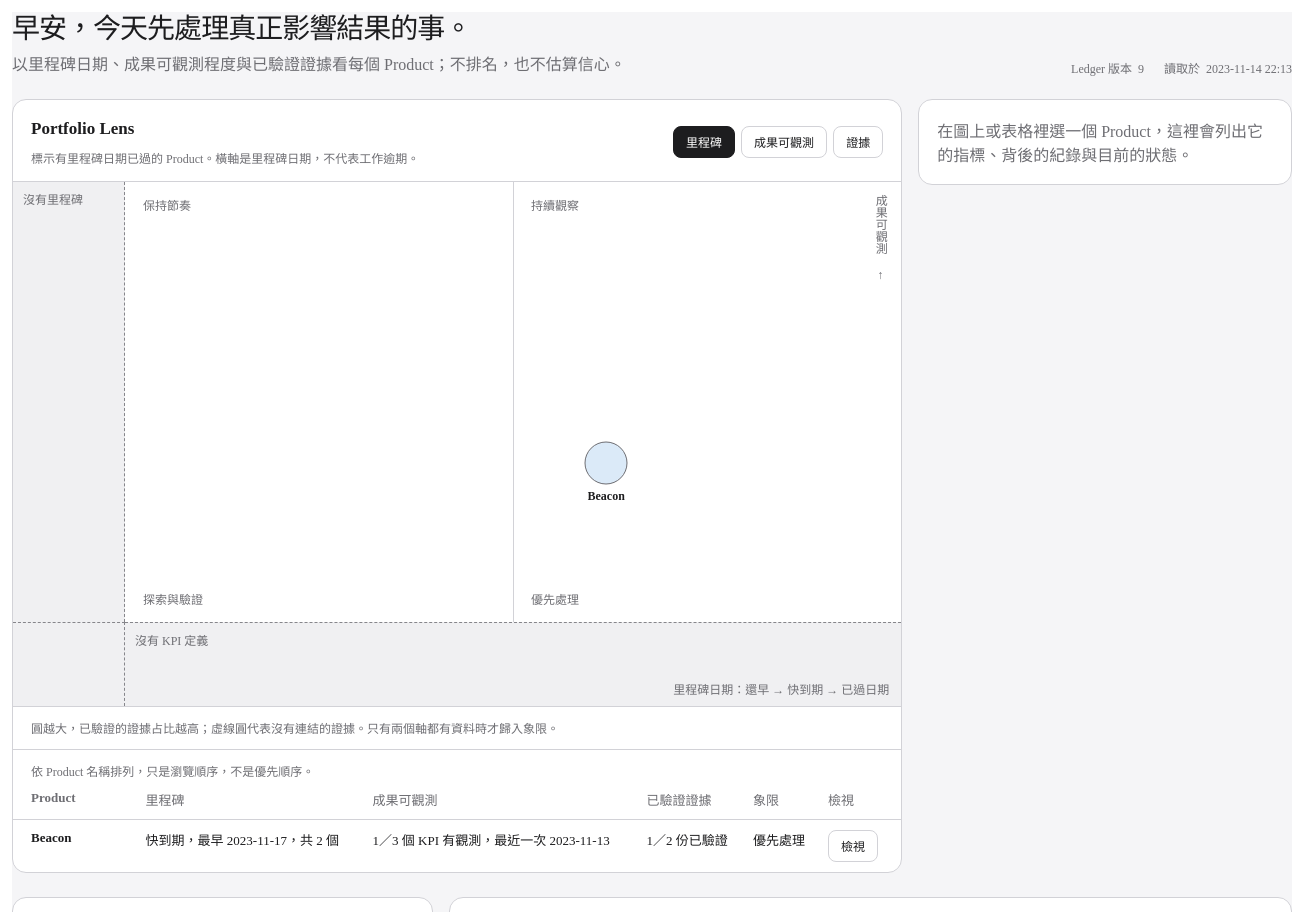
Test: the Executive Lens › names the record that forced a Product's classification
Click the button named "檢視 Beacon": (853, 846) [828,830,878,862]
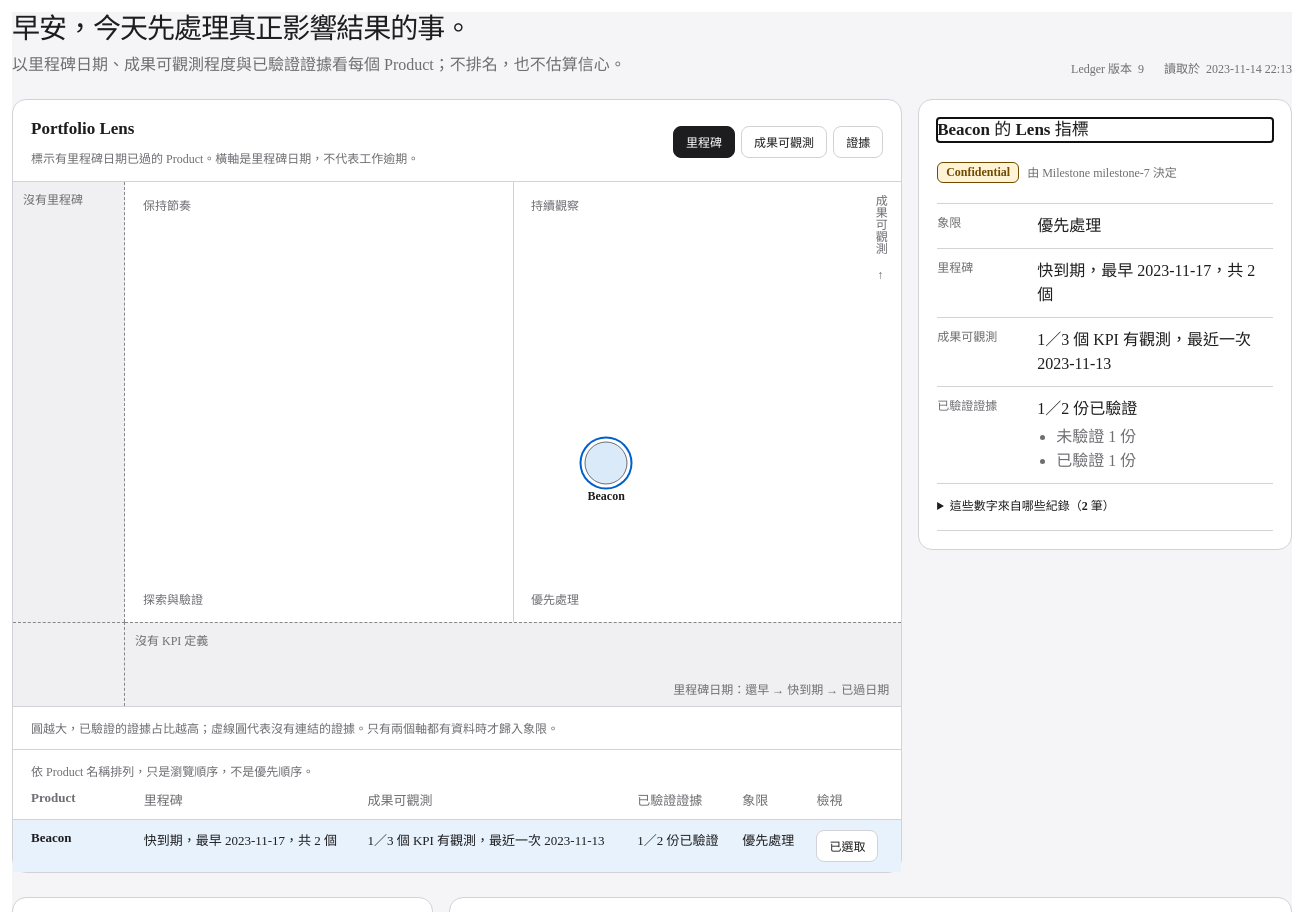
Expected: the element named "選取的 Product" shows "Confidential", [946,165,1010,179]
Expected: the element named "選取的 Product" shows "由 Milestone milestone-7 決定", [1027,166,1177,180]
